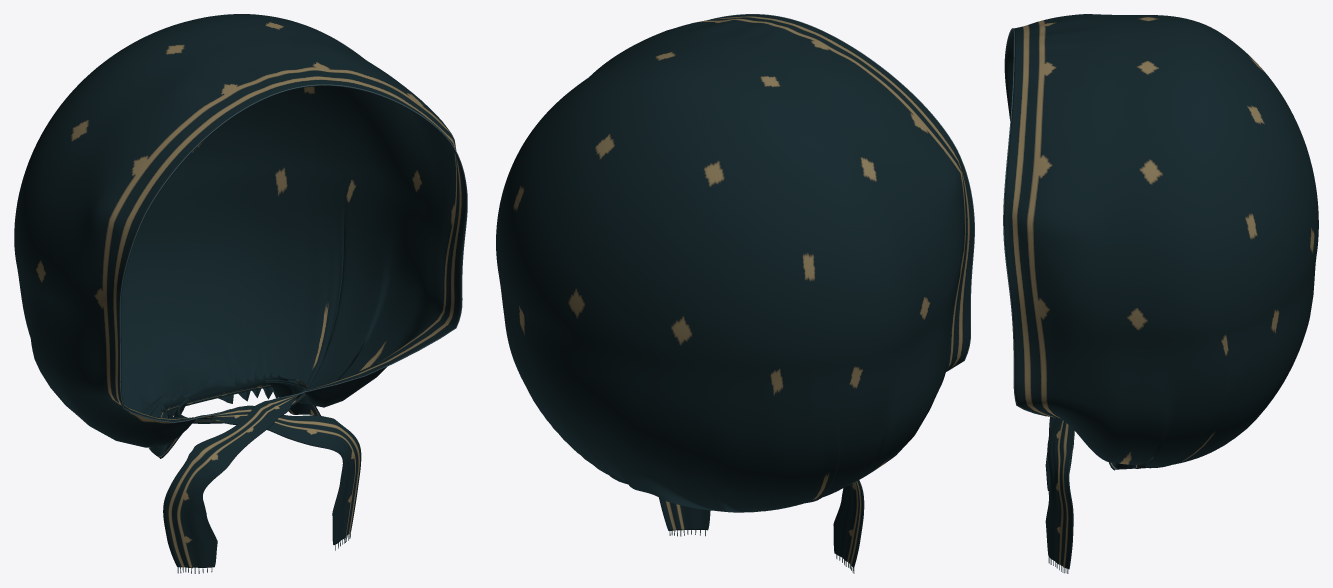
The model's file is Masculine-locs-pashmina251-headgear.glb.
The picture shows the model from 3 angles, left to right: view 1: azimuth 30°, elevation 25°; view 2: azimuth 150°, elevation 25°; view 3: azimuth 270°, elevation 25°; orthographic projection. The views are drawn at different scales.
Parts seen in each view (by area): view 1: 226 headgear / Headwear / continuous woven pashmina239.002, 226 headgear / Headwear / face edge239.002; view 2: 226 headgear / Headwear / continuous woven pashmina239.002, 226 headgear / Headwear / face edge239.002; view 3: 226 headgear / Headwear / continuous woven pashmina239.002, 226 headgear / Headwear / face edge239.002.
Boxes of the visible parts, x1,y1,x2,y2 form: 226 headgear / Headwear / continuous woven pashmina239.002: (14, 14, 466, 567); 226 headgear / Headwear / face edge239.002: (119, 84, 467, 422); 226 headgear / Headwear / continuous woven pashmina239.002: (496, 14, 974, 567); 226 headgear / Headwear / face edge239.002: (706, 14, 974, 371); 226 headgear / Headwear / continuous woven pashmina239.002: (1004, 14, 1318, 569); 226 headgear / Headwear / face edge239.002: (1003, 28, 1048, 416).
Size of the model in its own units: 1.1 by 1.39 by 0.7988.
3 materials, 1 textured.
